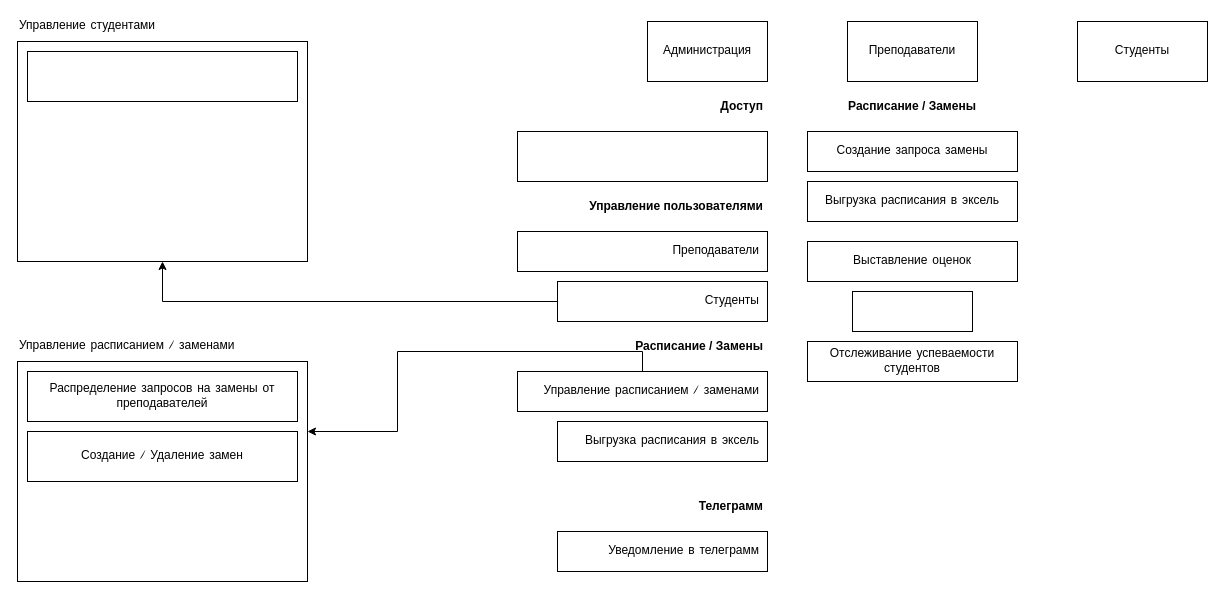
The diagram is 1225 pixels wide and 599 high, and some of its shapes have lost their labels. Here are the shapes that lost their labels. From the top down, the centre of each, then its label:
At pixel 642 156: "Доступ к функционалу администрации на основе доступа провиля администратора".
At pixel 912 311: "Куратор".
